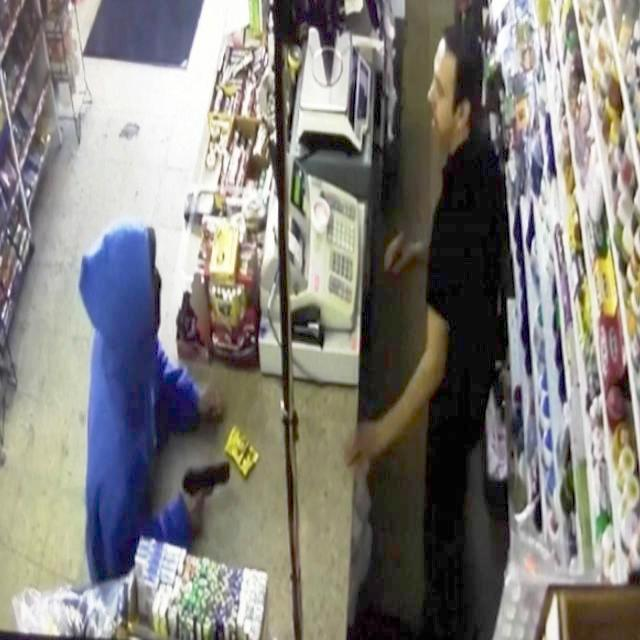Gun: (170, 452, 240, 516)
